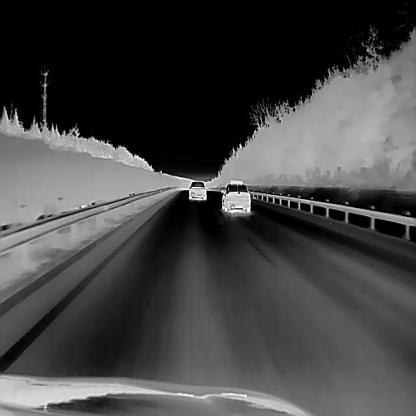car: (220, 178, 250, 212), (188, 180, 206, 199)
